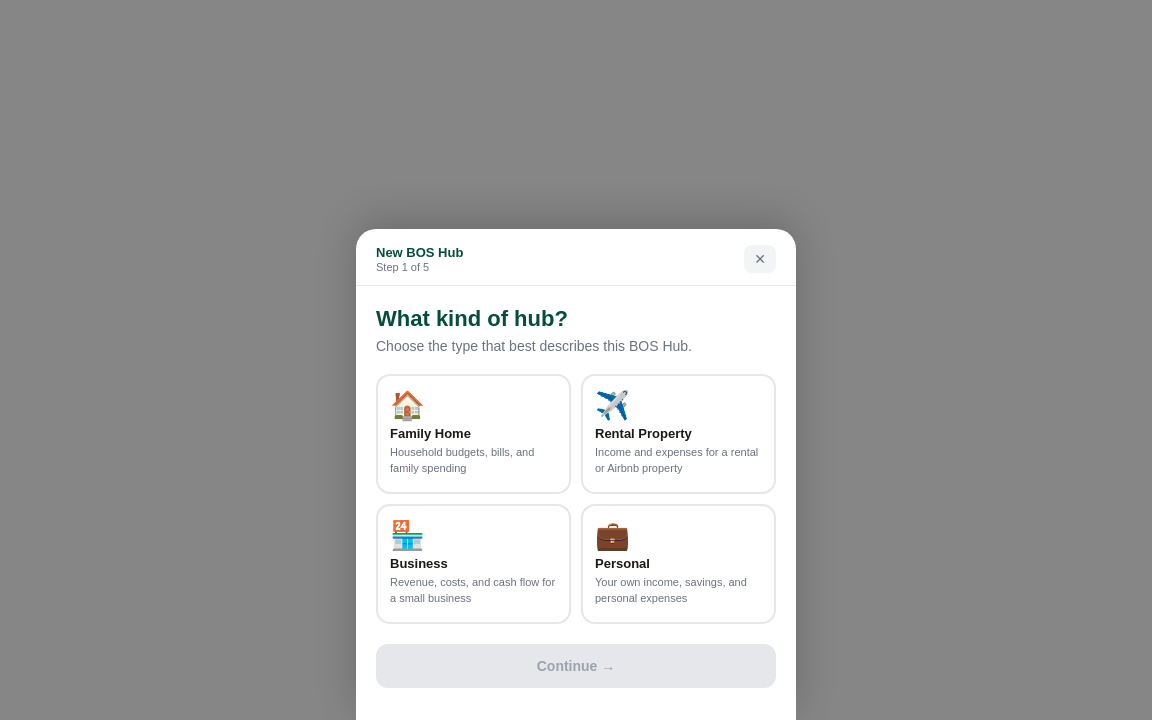
Test case: CreateHubSheet › Continue enables after selecting a hub type
The width and height of the screenshot is (1152, 720).
Step 1. Click the button with aria-label "Select Family Home" → (474, 434), box [376,374,571,494]
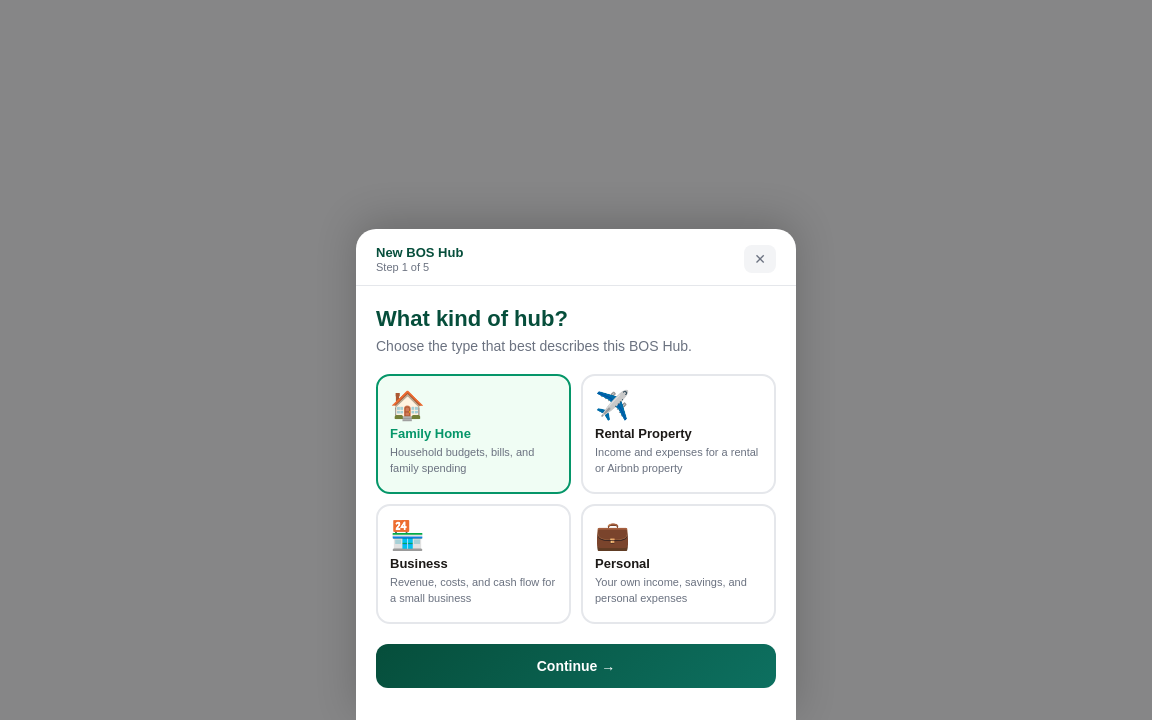
Check: the button "Continue →" is enabled, box [376,644,776,688]
